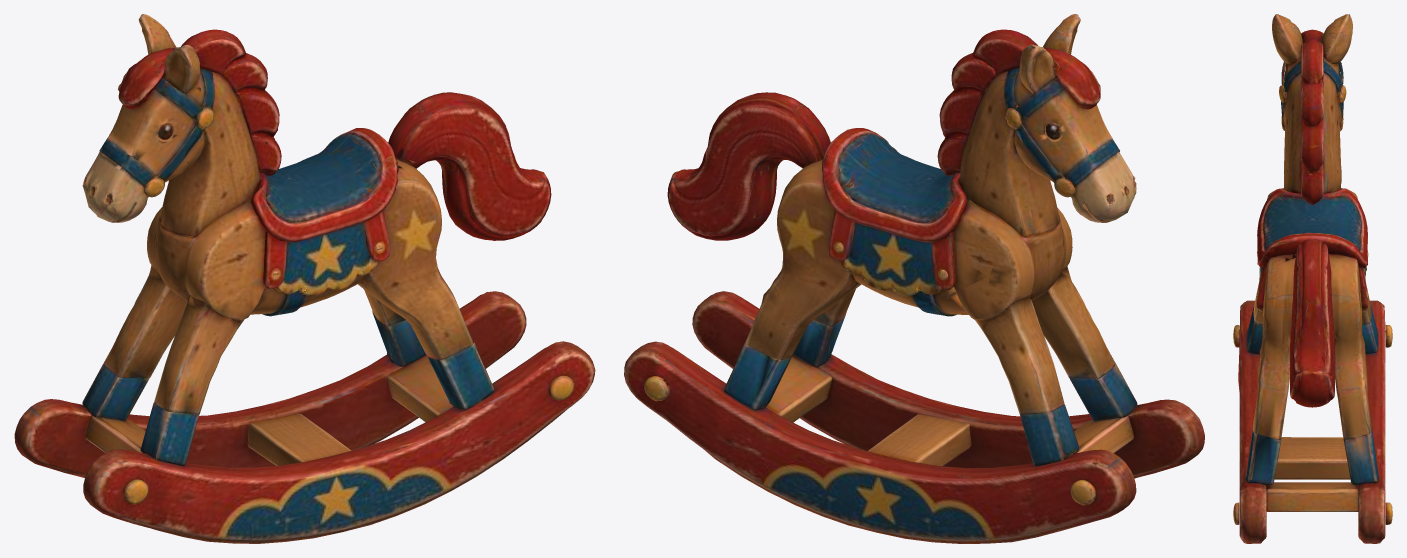
3 renders of one model, left to right at view 1: azimuth 30°, elevation 25°; view 2: azimuth 150°, elevation 25°; view 3: azimuth 270°, elevation 25°, orthographic. The views are drawn at different scales.
Bounding box in the file's own units: 0.9497 × 0.9126 × 0.3042.
1 material, 1 textured.
